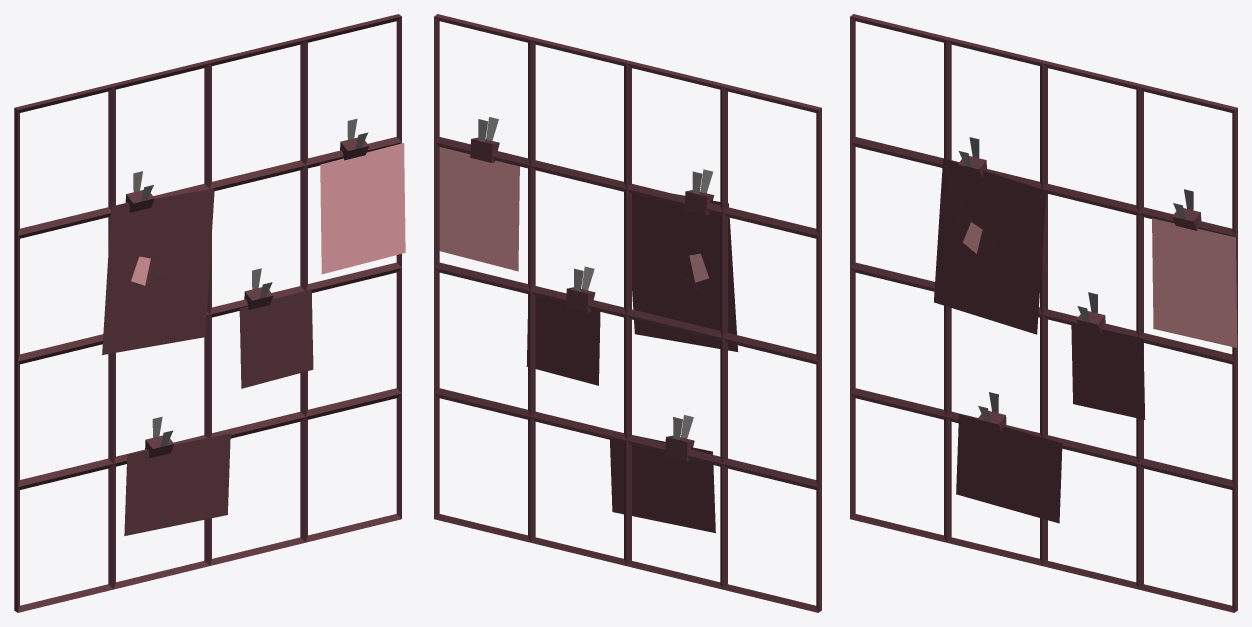
File: board-wire-papers.fbx
The picture shows the model from 3 angles, left to right: view 1: azimuth 30°, elevation 25°; view 2: azimuth 150°, elevation 25°; view 3: azimuth 330°, elevation 25°; orthographic projection.
Visible parts, largest first — view 1: board-wire-papers; view 2: board-wire-papers; view 3: board-wire-papers.
Boxes of the visible parts, x1,y1,x2,y2 form: board-wire-papers: (14,14,405,612); board-wire-papers: (434,14,821,612); board-wire-papers: (850,14,1237,612).
Size of the model in its own units: 0.6051 by 0.75 by 0.0352.
